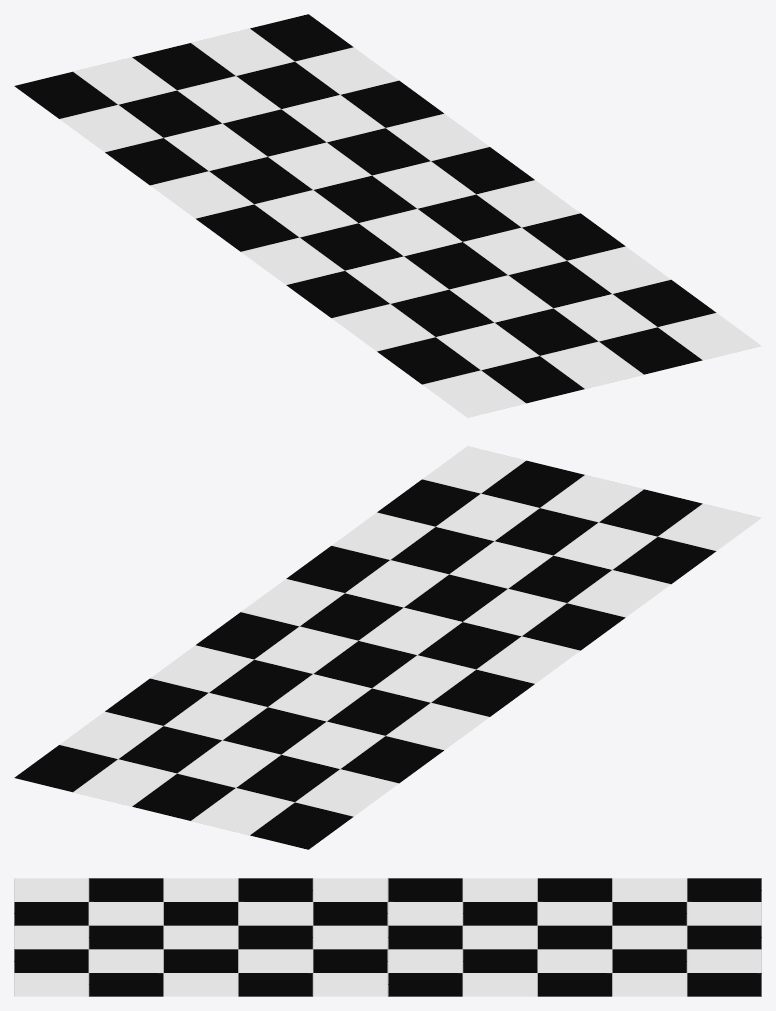
The model's file is finish_line2.fbx.
The picture shows the model from 3 angles, top to bottom: view 1: azimuth 30°, elevation 25°; view 2: azimuth 150°, elevation 25°; view 3: azimuth 270°, elevation 25°; orthographic projection. The views are drawn at different scales.
Visible parts, largest first — view 1: pPlane4; view 2: pPlane4; view 3: pPlane4.
Part boxes in pixels (bbox=[...]): pPlane4: bbox=[14, 14, 761, 417]; pPlane4: bbox=[14, 446, 761, 849]; pPlane4: bbox=[14, 878, 761, 996].
Bounding box in the file's own units: 0.75 × 0 × 2.
